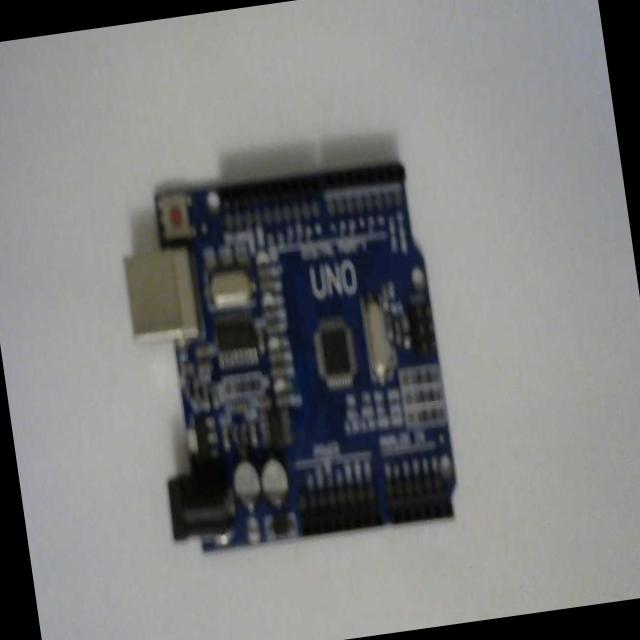arduino: (110, 146, 466, 563)
